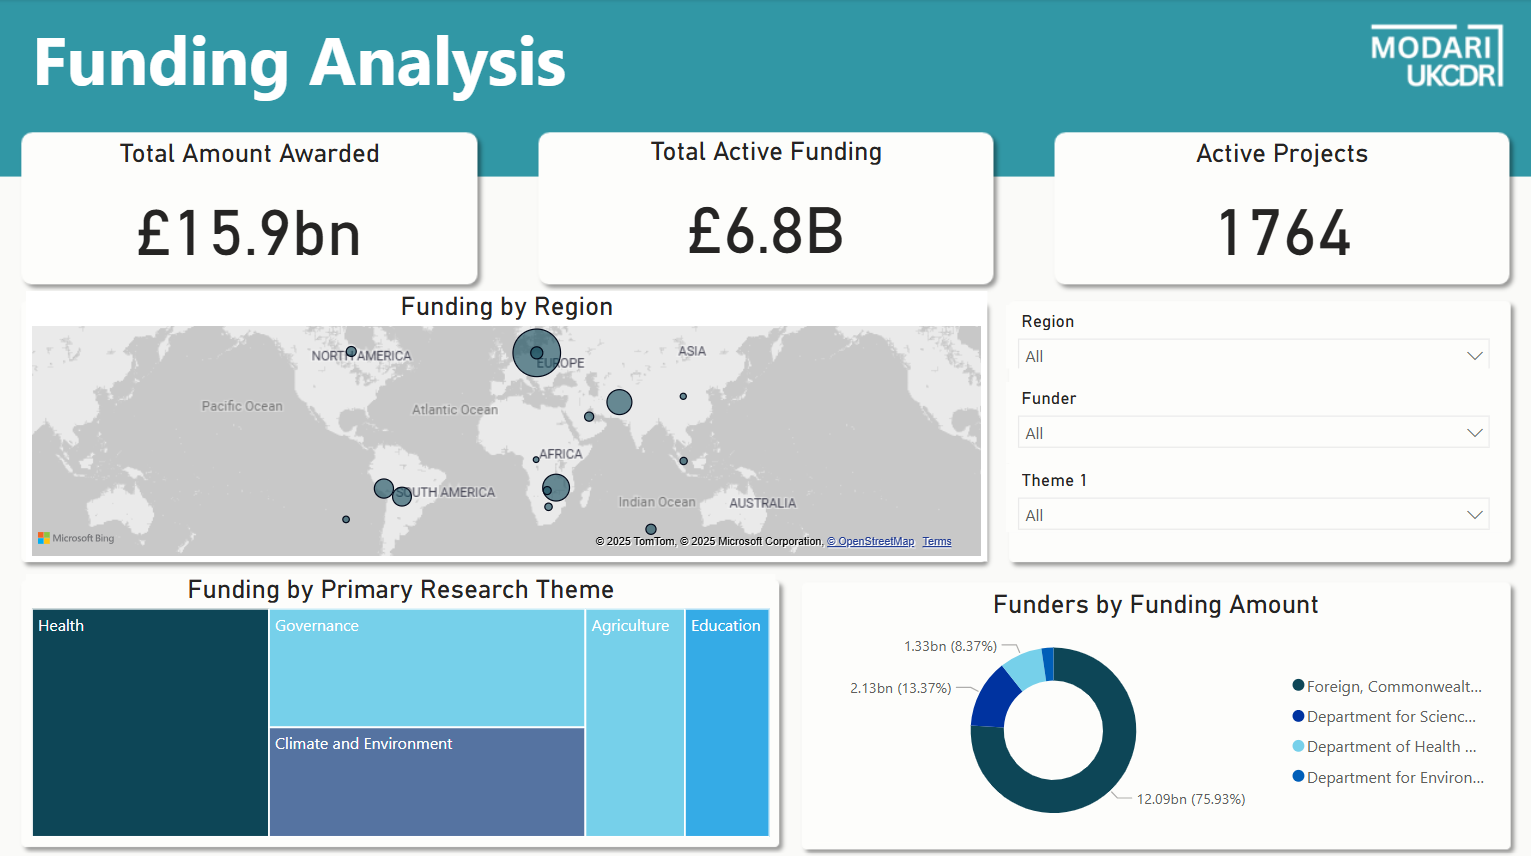

What the dashboard file says about the page in this screenshot:
{"tool":"powerbi","page":{"name":"Overview","canvas":[1280,720],"ordinal":0},"visuals":[{"type":"card","title":"Total Amount Awarded","fields":{"Values":["Sum(modari.Amount Awarded GBP)"]},"box":[21.7,116.1,373.4,119.4],"z":0},{"type":"card","title":"Active Projects","fields":{"Values":["modari.Active Projects Count"]},"box":[887.1,115.7,367.7,118.7],"z":1000},{"type":"donutChart","title":"Funders by Funding Amount","fields":{"Category":["modari.Funder"],"Y":["Sum(modari.Amount Awarded GBP)"]},"box":[677,493.1,577.8,212],"z":2000},{"type":"card","title":"Total Active Funding","fields":{"Values":["modari.Total Active Funding GBP"]},"box":[455.2,114.8,369.6,119.6],"z":3000},{"type":"textbox","box":[21.4,6.8,541.8,93.4],"z":4000},{"type":"treemap","title":"Funding by  Primary Research Theme","fields":{"Group":["modari.Theme 1"],"Values":["CountNonNull(modari.Funder Programme)"]},"box":[21.4,480.5,626.4,224.7],"z":5000},{"type":"slicer","fields":{"Values":["modari.Region"]},"box":[840.4,255.8,414.3,53.5],"z":6000},{"type":"slicer","fields":{"Values":["modari.Funder"]},"box":[840.4,320,414.3,68.1],"z":7000},{"type":"slicer","fields":{"Values":["modari.Theme 1"]},"box":[840.4,388.1,414.3,57.4],"z":8000},{"type":"map","title":"Funding by Region","fields":{"Category":["modari.Region"],"Size":["Sum(modari.Amount Awarded GBP)"]},"box":[21.4,244.1,803.4,225.7],"z":9000}]}

Visuals, with their boxes in screenshot pixels (x1, y1, x2, y2), scaled from the page's 1280x720 canvas onto the 1531x856 screenshot:
"Total Amount Awarded" card: region(26, 138, 473, 280)
"Active Projects" card: region(1061, 138, 1501, 279)
"Funders by Funding Amount" donutChart: region(810, 586, 1501, 838)
"Total Active Funding" card: region(544, 136, 987, 279)
textbox: region(26, 8, 674, 119)
"Funding by  Primary Research Theme" treemap: region(26, 571, 775, 838)
slicer - modari.Region: region(1005, 304, 1501, 368)
slicer - modari.Funder: region(1005, 380, 1501, 461)
slicer - modari.Theme 1: region(1005, 461, 1501, 530)
"Funding by Region" map: region(26, 290, 987, 559)
